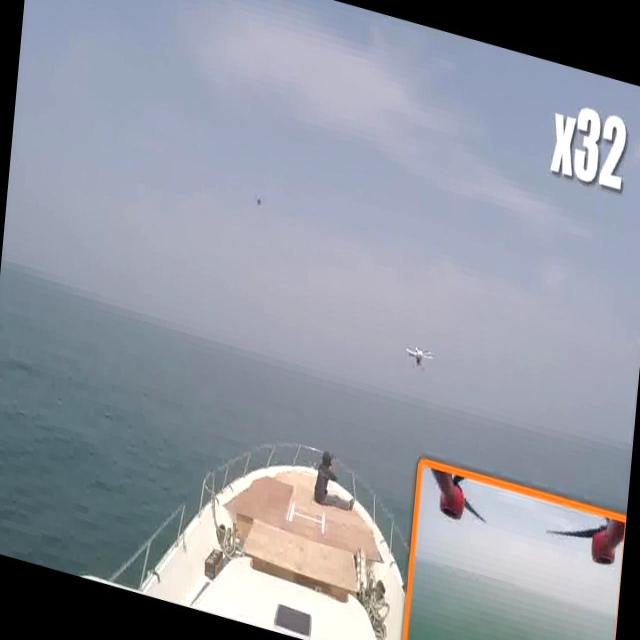drone: (401, 334, 437, 381)
